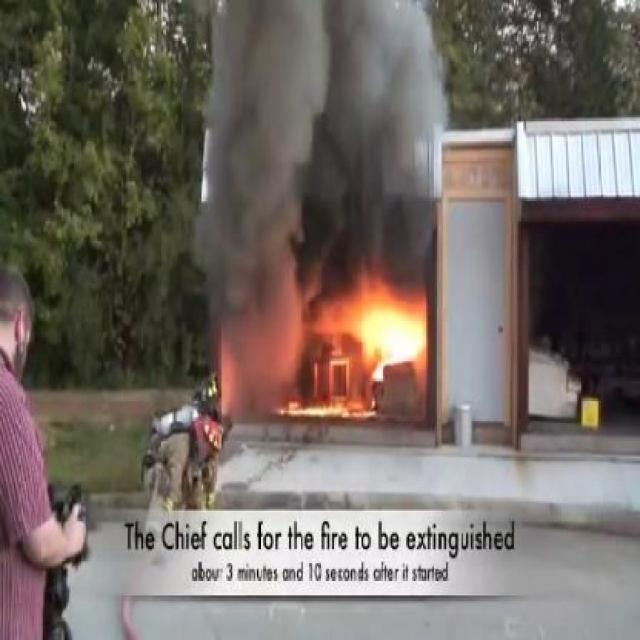fire: (333, 308, 429, 377)
smoke: (197, 2, 448, 310)
